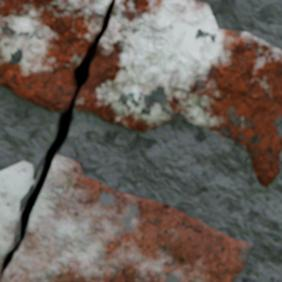broken_brick: (73, 0, 281, 185), (0, 154, 251, 281), (0, 0, 112, 111), (0, 160, 33, 263)
crack: (0, 0, 114, 279)
